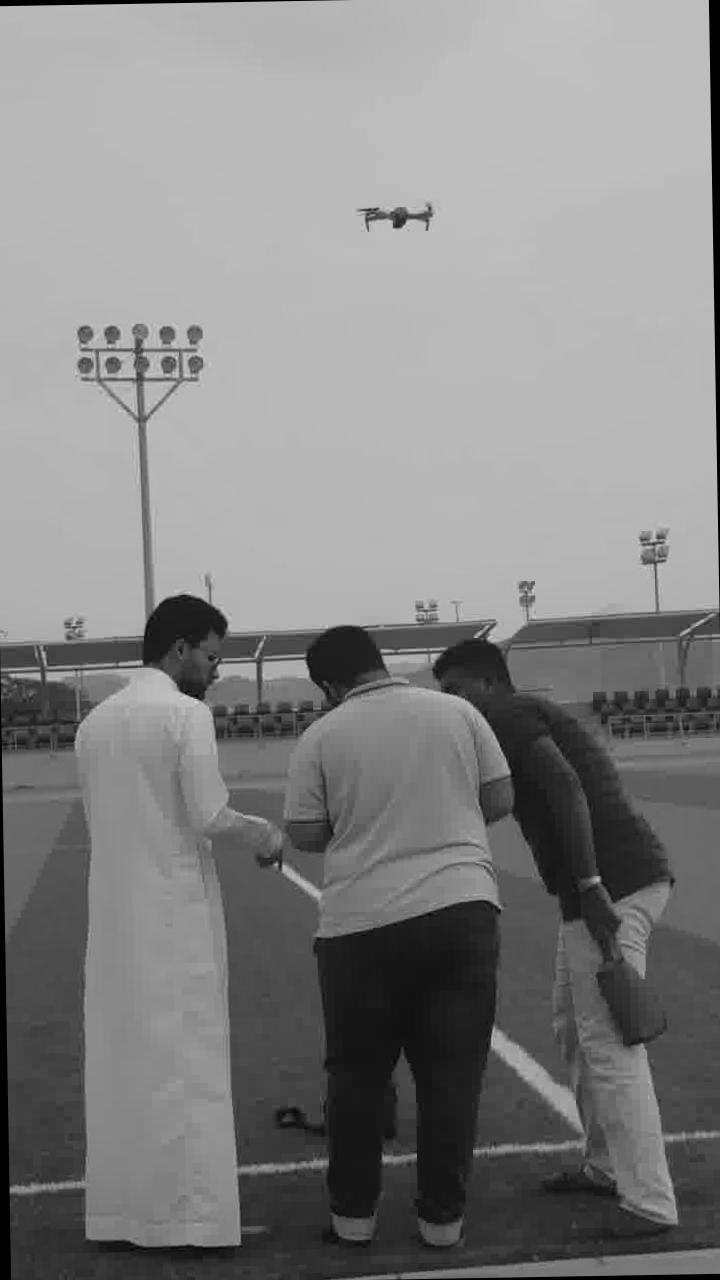drone: (340, 198, 441, 238)
